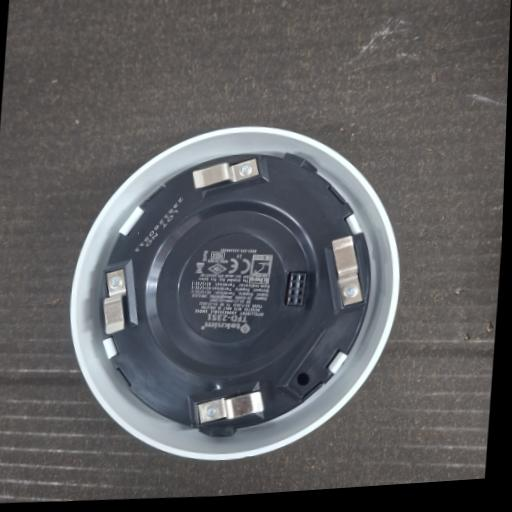yaysiz: (184, 377, 272, 437), (323, 228, 373, 315), (97, 259, 142, 338), (188, 153, 262, 192)
